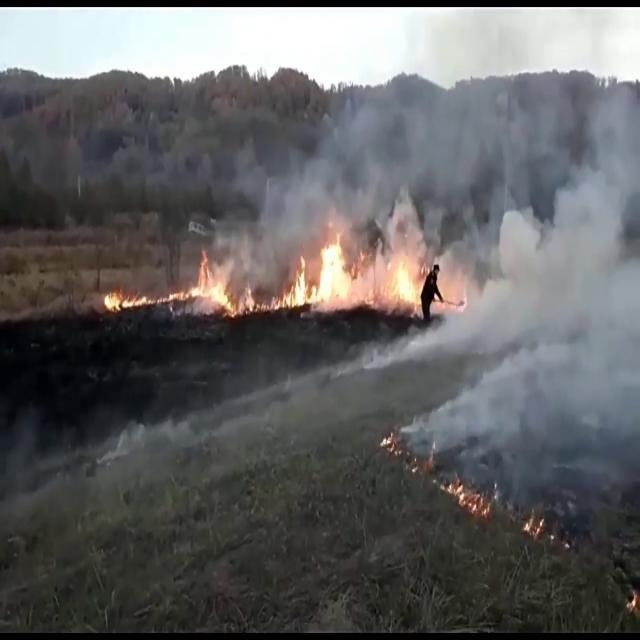Fire: (286, 220, 454, 318), (99, 238, 278, 321)
Smoke: (424, 8, 640, 504), (280, 7, 640, 240)
